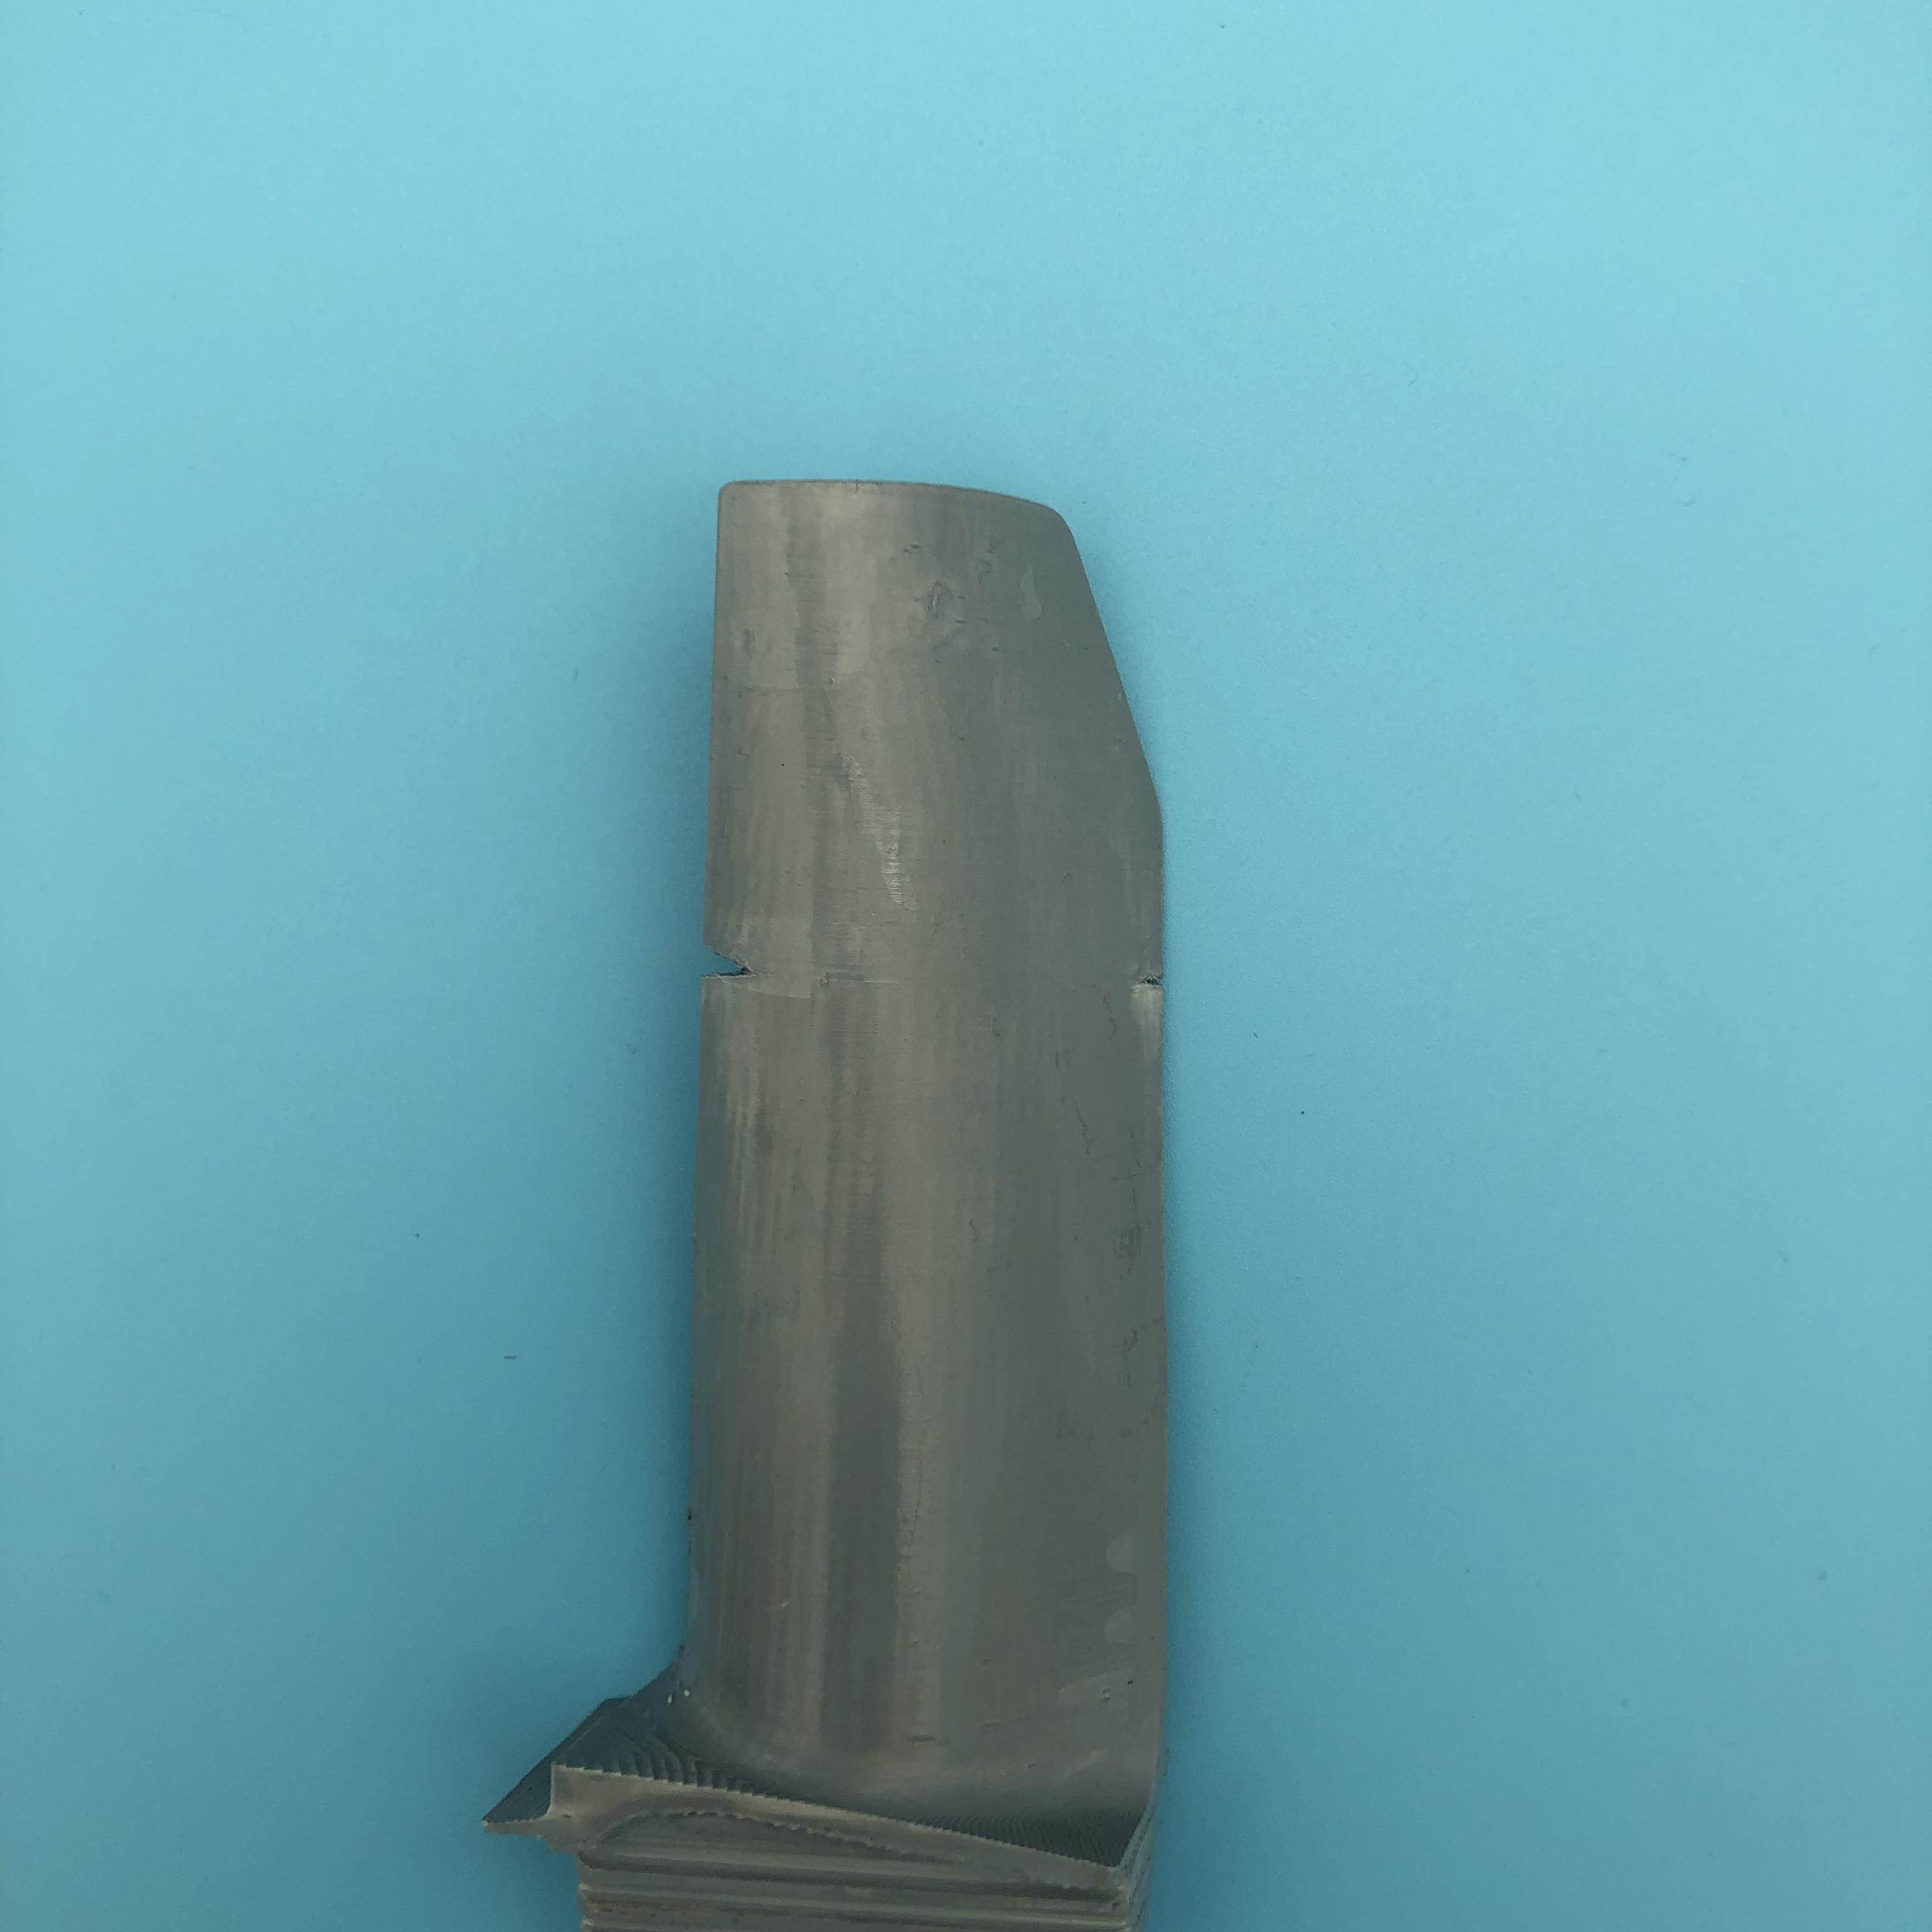groove: (708, 934, 761, 985), (1132, 966, 1159, 998)
